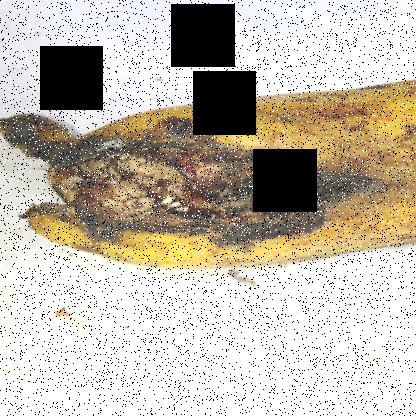rotten: (0, 79, 400, 270)
